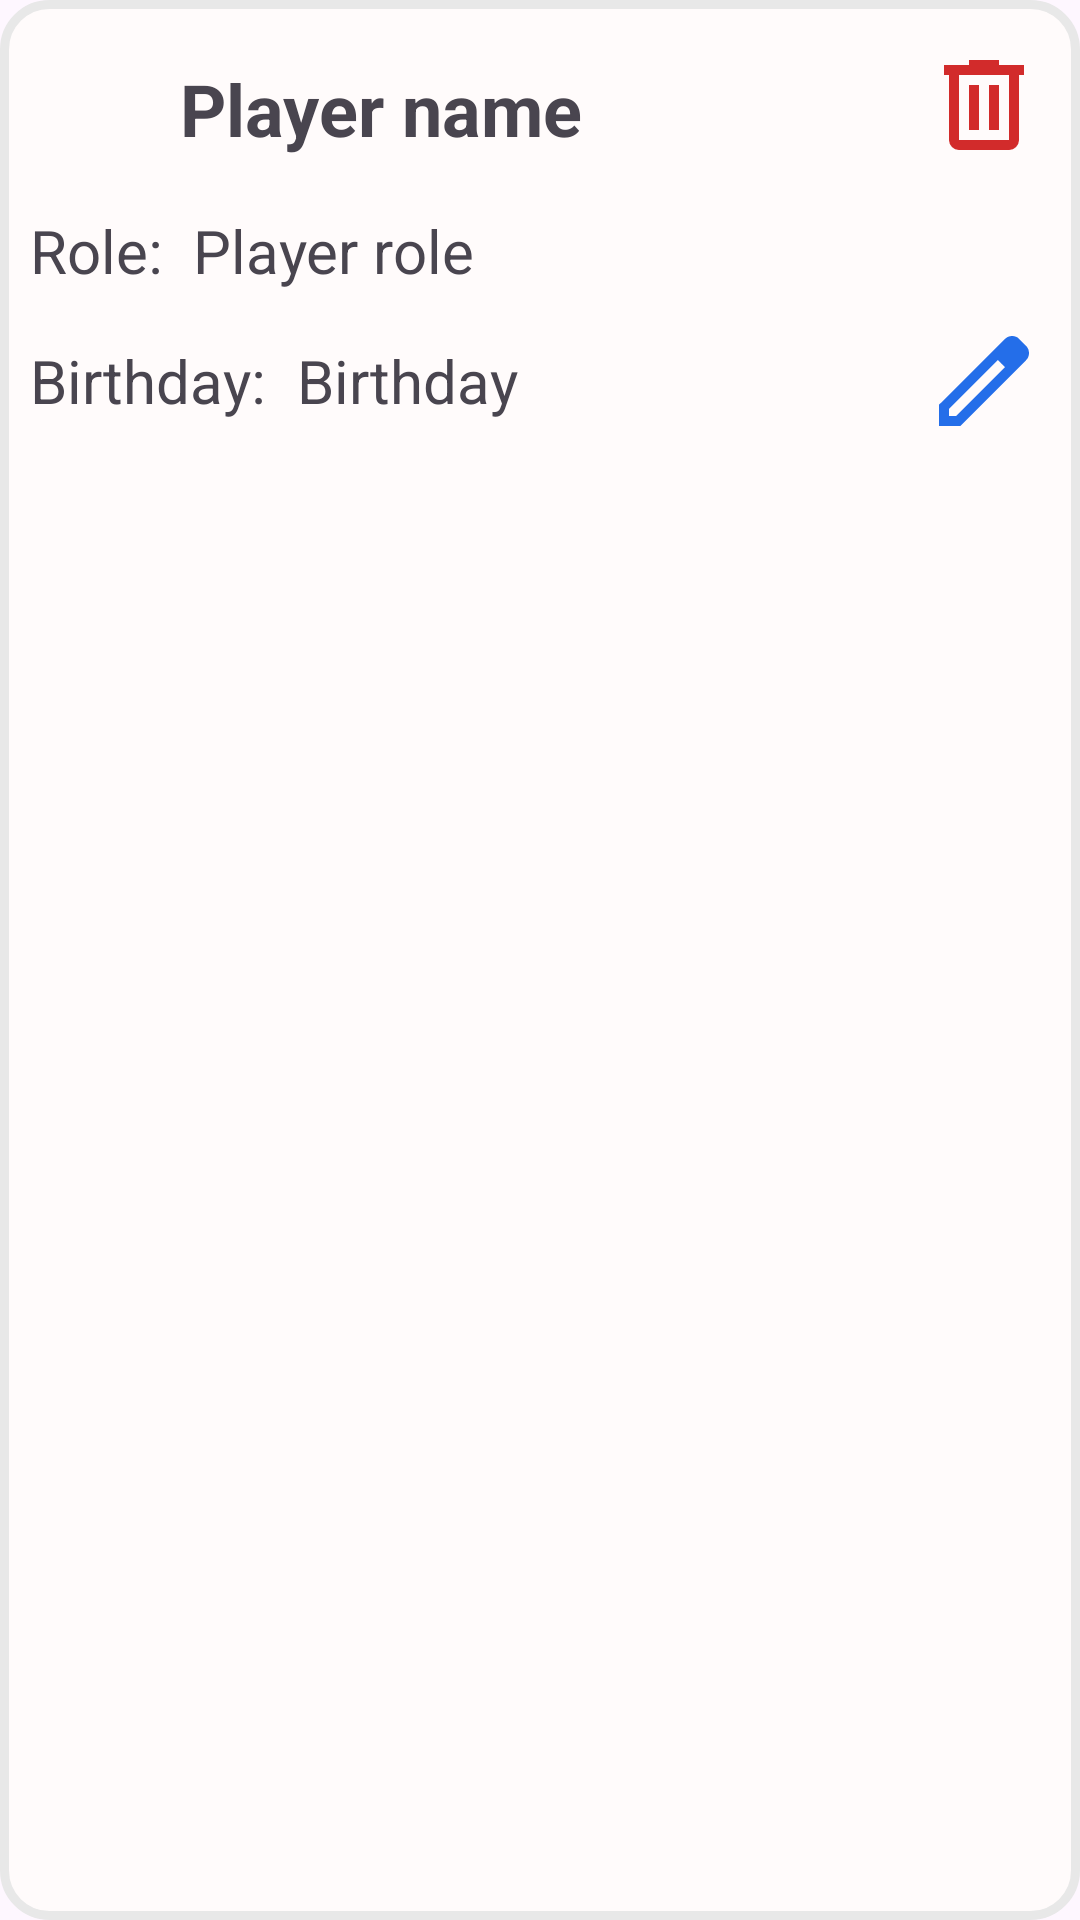

Named icons in this screenshot (1080px×1920px) and their bounding boxes, [x1=x1, y1=y1, x2=x2, y2=y2]:
bin: [x1=944, y1=60, x2=1024, y2=150]
edit: [x1=939, y1=336, x2=1029, y2=426]
